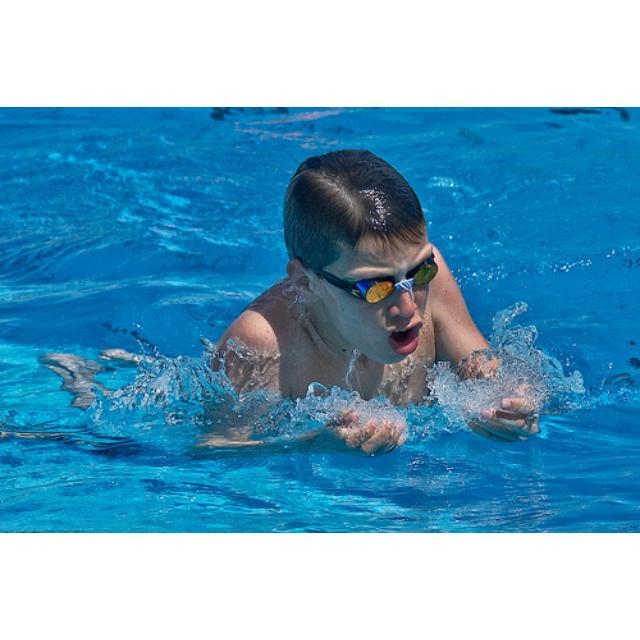human: (198, 135, 555, 463)
